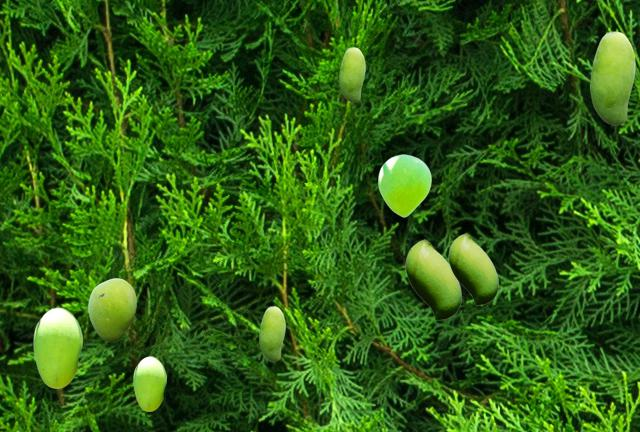green_mango: (405, 239, 460, 319), (590, 31, 634, 124), (33, 307, 81, 387), (448, 233, 497, 304), (378, 154, 430, 216), (88, 278, 135, 340), (133, 356, 165, 410), (339, 47, 364, 101), (259, 306, 284, 360)
